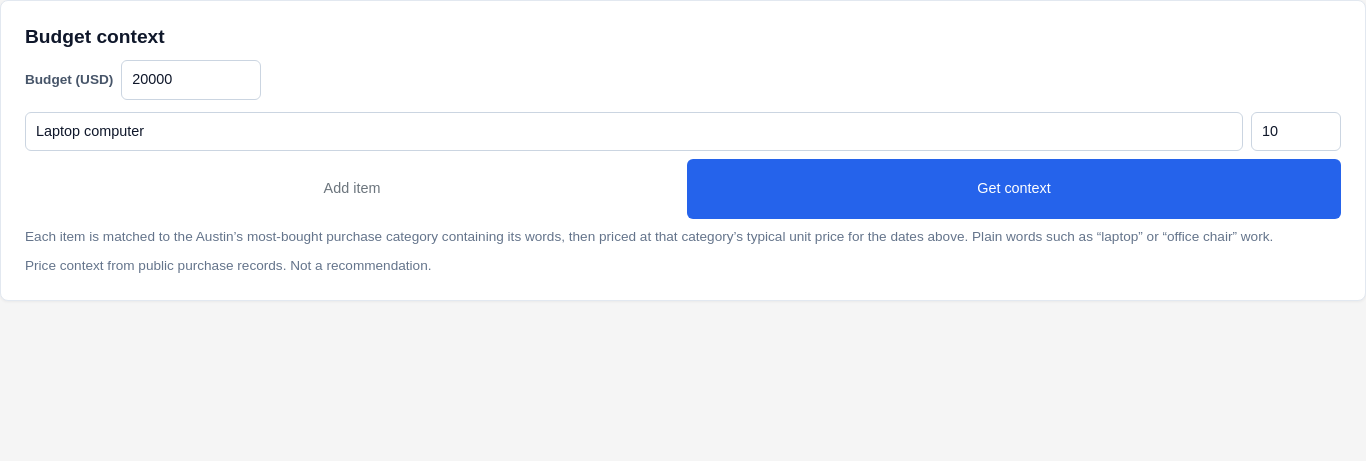
Scenario: BudgetContextPanel › shows Within budget and Over budget verdicts
Click the button "Get context" at x=1014, y=189, box x1=687 y1=159 x2=1341 y2=219
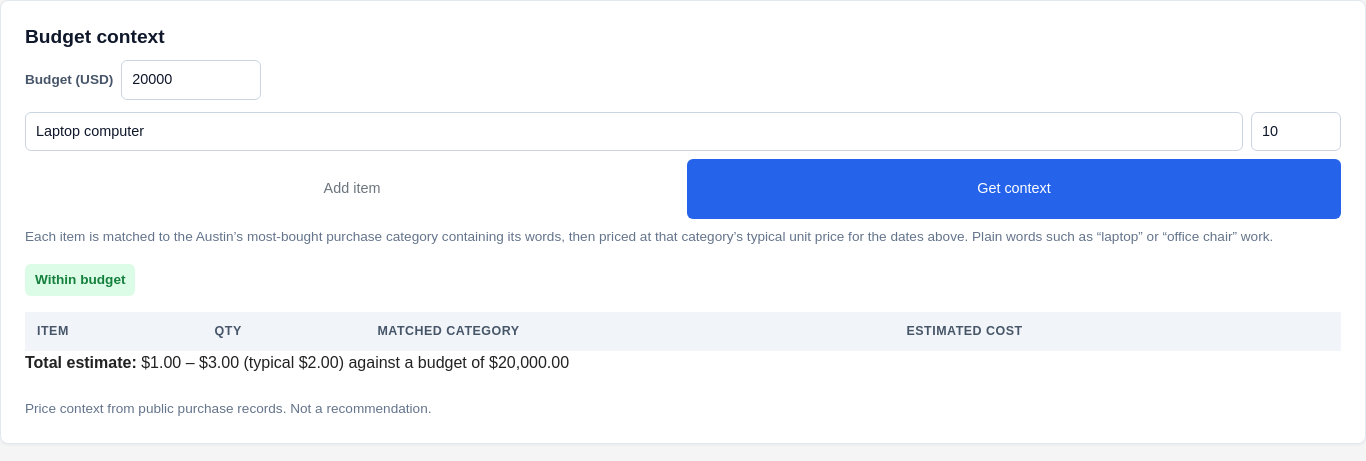
Check: the text "Within budget" is shown, box x1=25 y1=264 x2=136 y2=296
Click the button "Get context" at x=1014, y=189, box x1=687 y1=159 x2=1341 y2=219
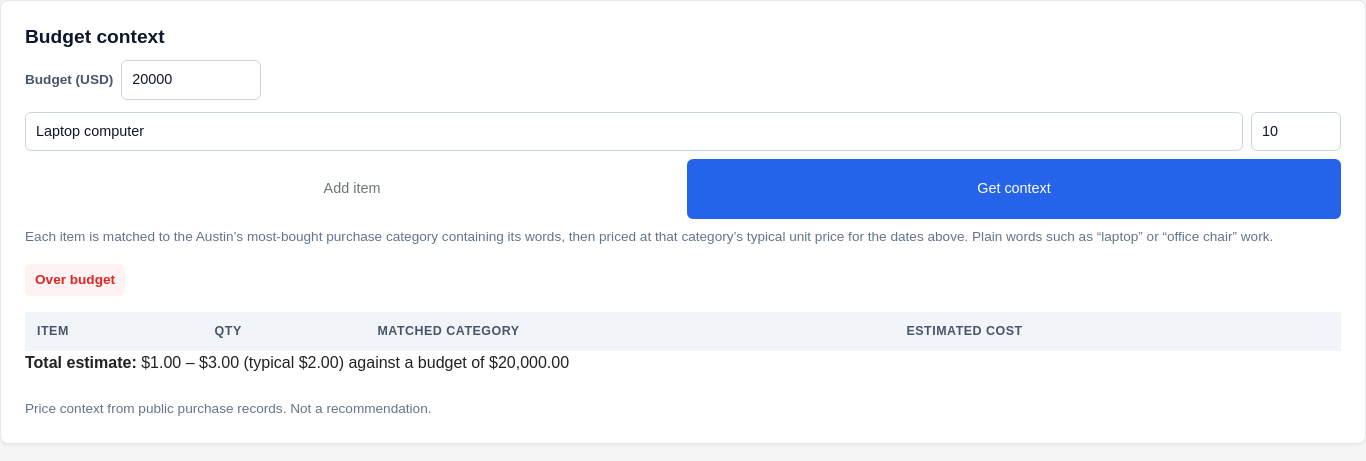
Check: the text "Over budget" is shown, box x1=25 y1=264 x2=125 y2=296
